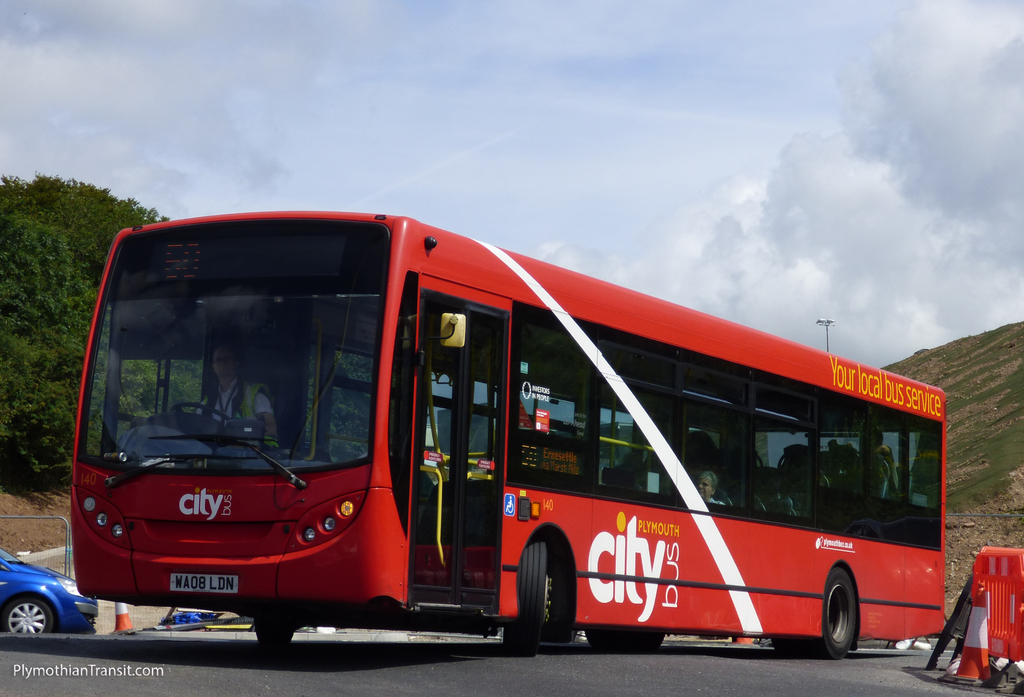Bus: (73, 206, 947, 657)
